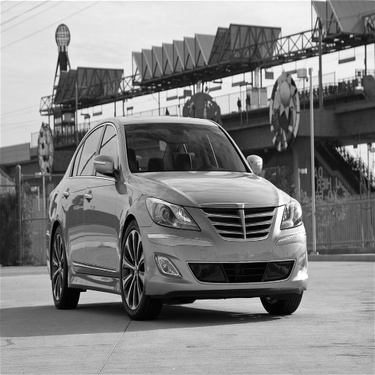car: (39, 108, 320, 324)
